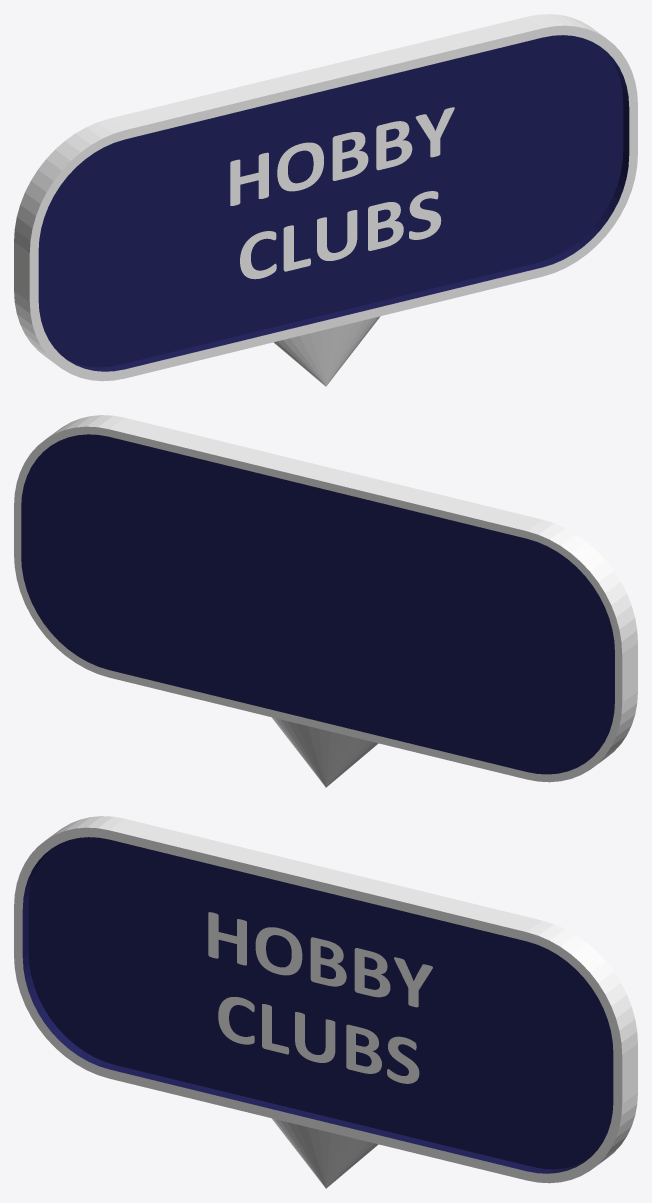
The model's file is HobbyClubsHoverd.glb.
The picture shows the model from 3 angles, top to bottom: view 1: azimuth 30°, elevation 25°; view 2: azimuth 150°, elevation 25°; view 3: azimuth 330°, elevation 25°; orthographic projection.
Visible parts, largest first — view 1: 立方体, 立方体.001, 立方体.002, 文本, 立方体.004; view 2: 立方体, 立方体.003, 立方体.002, 立方体.004; view 3: 立方体, 立方体.001, 立方体.002, 文本, 立方体.004.
Part boxes in pixels (box(x1,y1,x2,y2)): 立方体: box(38, 35, 629, 371); 立方体.001: box(29, 25, 637, 381); 立方体.002: box(14, 14, 603, 366); 文本: box(230, 107, 454, 279); 立方体.004: box(273, 316, 380, 386); 立方体: box(21, 434, 614, 774); 立方体.003: box(14, 426, 622, 782); 立方体.002: box(48, 415, 637, 767); 立方体.004: box(271, 717, 378, 787); 立方体: box(22, 837, 613, 1173); 立方体.001: box(14, 827, 622, 1183); 立方体.002: box(48, 816, 637, 1168); 文本: box(208, 912, 432, 1083); 立方体.004: box(271, 1118, 378, 1188).
Bounding box in the file's own units: 5.13 × 2.52 × 0.2745.
